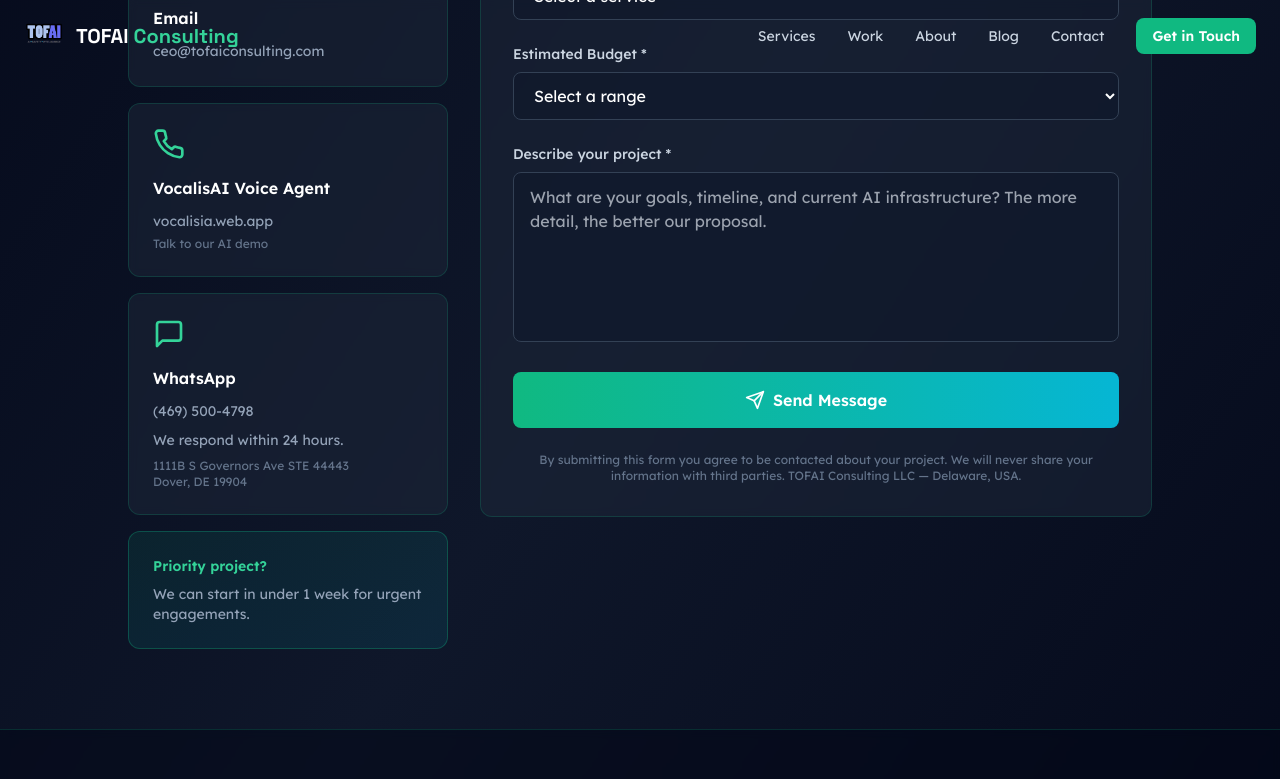
Test: Contact Page — TOFAI Consulting › shows validation errors when submitting empty form
(page scrolled)
What coordinates should you click on to do the following:
click the button "Send Message"
I would click on:
 (816, 400)
Its box is [513,372,1119,428].
(page scrolled)
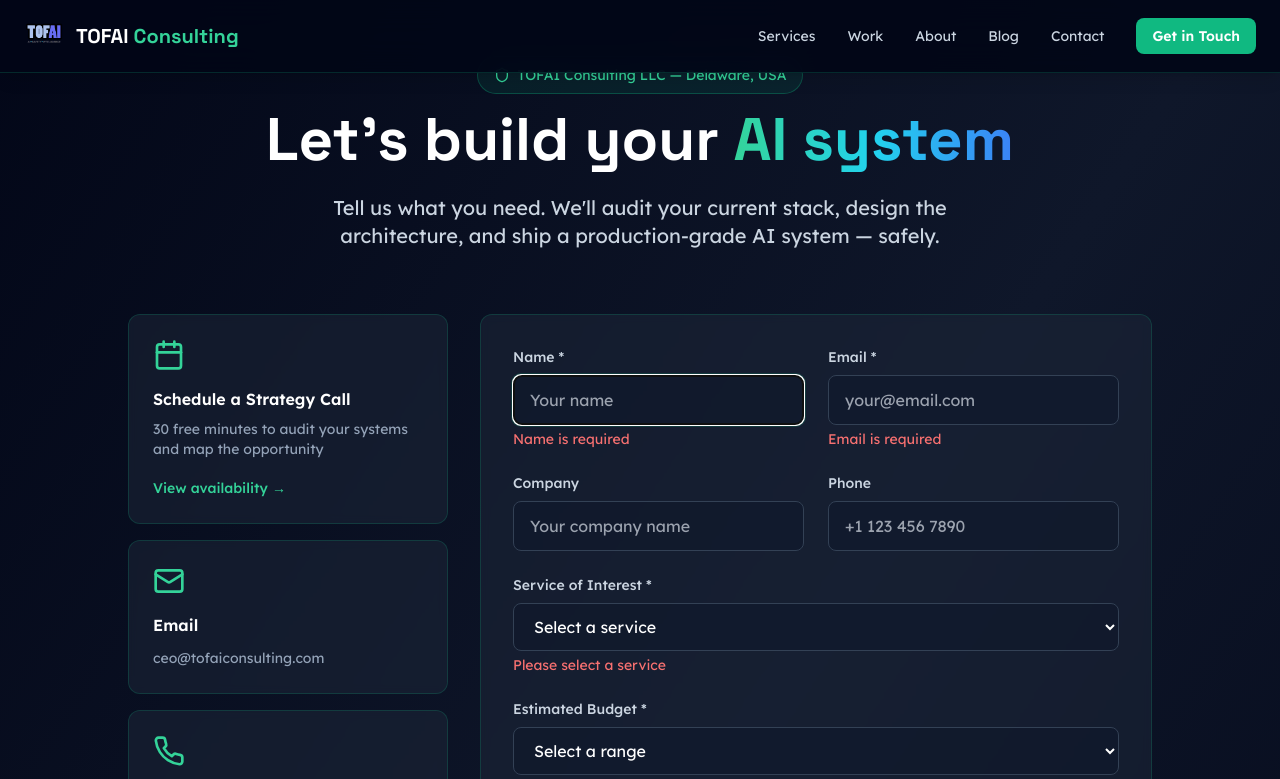
Now the text "Name is required" is shown, box [513,430,630,448]
